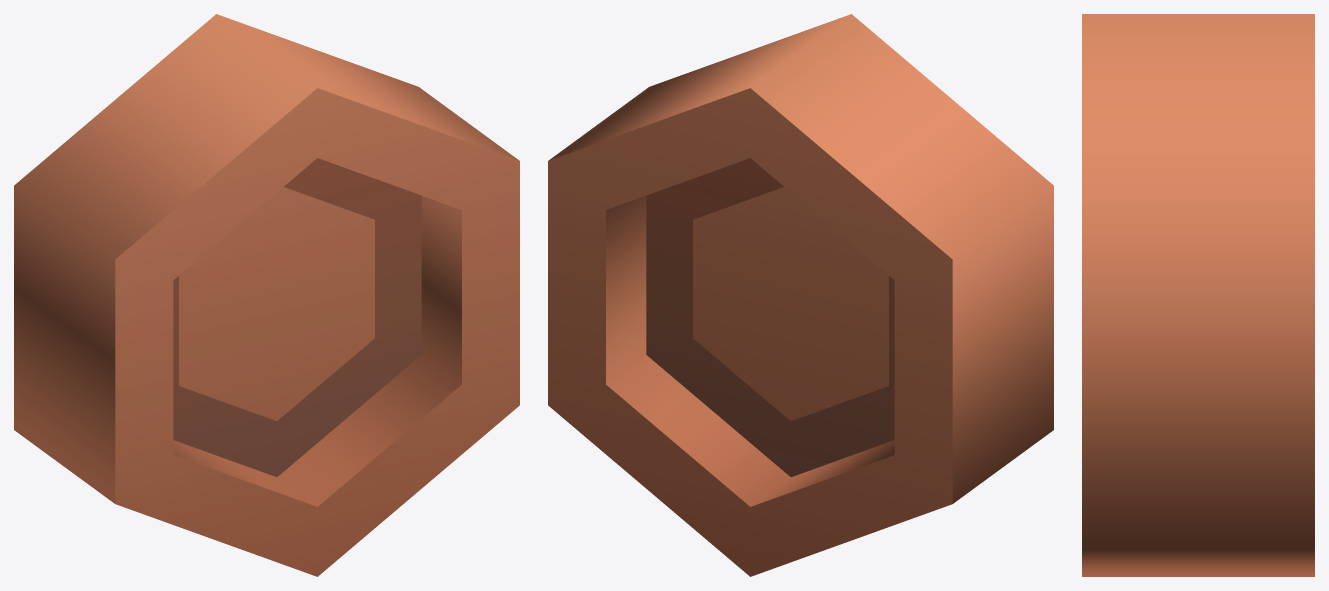
File: kenney-platformer-coin-bronze.glb
3 renders of one model, left to right at view 1: azimuth 30°, elevation 25°; view 2: azimuth 150°, elevation 25°; view 3: azimuth 270°, elevation 25°, orthographic. The views are drawn at different scales.
Parts seen in each view (by area): view 1: coin-bronze; view 2: coin-bronze; view 3: coin-bronze.
Boxes of the visible parts, x1,y1,x2,y2 form: coin-bronze: (14,14,519,576); coin-bronze: (548,14,1053,576); coin-bronze: (1082,14,1314,576).
Bounding box in the file's own units: 0.3464 × 0.4 × 0.15.
Materials: 1 (1 with a texture image).
